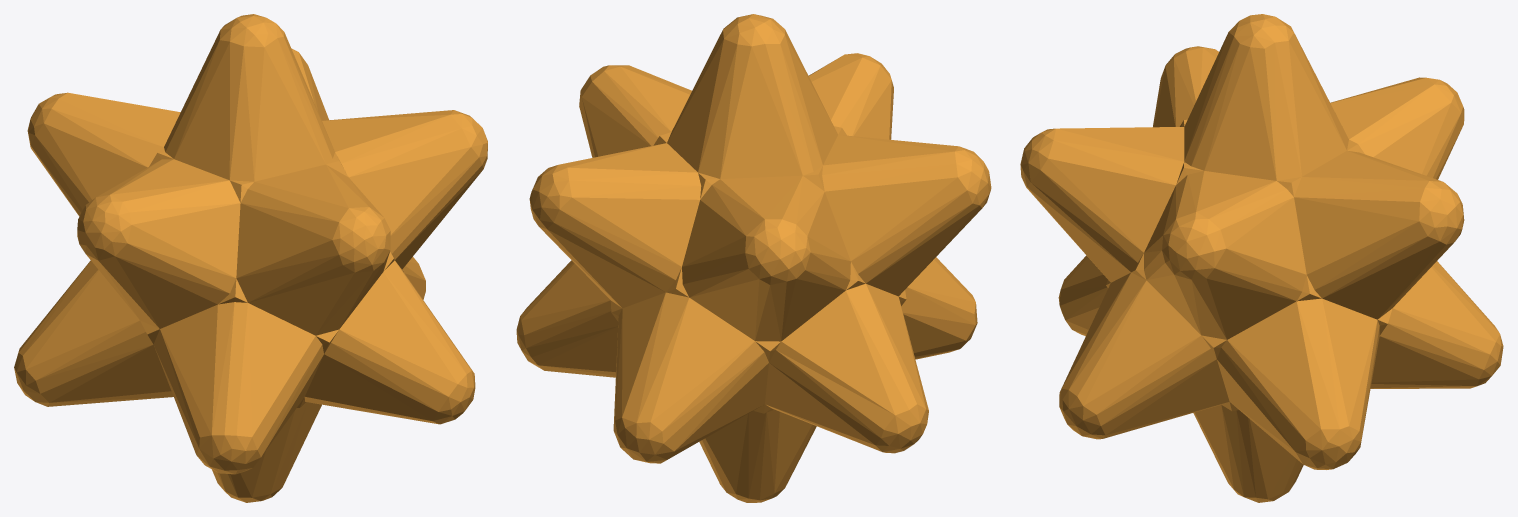
Rendered from orange.glb.
The picture shows the model from 3 angles, left to right: view 1: azimuth 30°, elevation 25°; view 2: azimuth 150°, elevation 25°; view 3: azimuth 270°, elevation 25°; orthographic projection.
Parts seen in each view (by area): view 1: Dodecahedron - Star Fragment; view 2: Dodecahedron - Star Fragment; view 3: Dodecahedron - Star Fragment.
Part boxes in pixels (<box>): Dodecahedron - Star Fragment: <box>14,14,487,502</box>; Dodecahedron - Star Fragment: <box>516,14,991,502</box>; Dodecahedron - Star Fragment: <box>1020,14,1503,502</box>.
Size of the model in its own units: 59.52 by 68.16 by 61.98.
